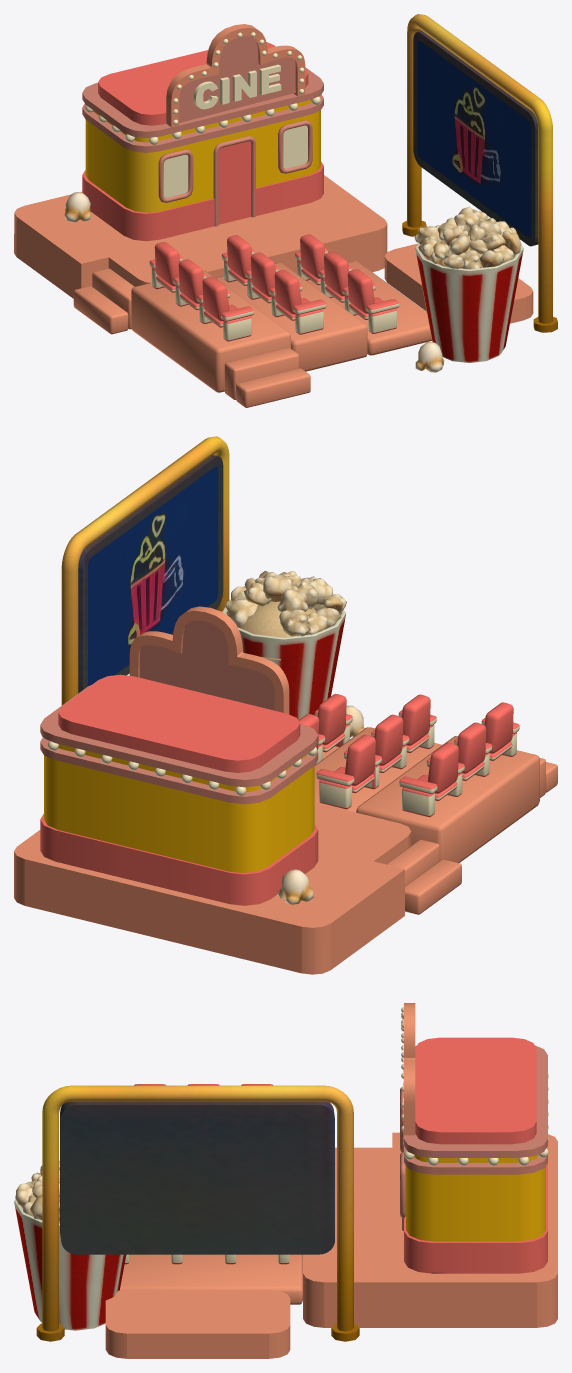
File: Cinema.fbx
3 views of the same model, one above another, from view 1: azimuth 30°, elevation 25°; view 2: azimuth 150°, elevation 25°; view 3: azimuth 270°, elevation 25° (orthographic). The views are drawn at different scales.
Visible parts, largest first — view 1: Cinema; view 2: Cinema; view 3: Cinema.
Part boxes in pixels (left/top/right/bottom): Cinema: left=14, top=14, right=557, bottom=407; Cinema: left=14, top=436, right=557, bottom=974; Cinema: left=14, top=1003, right=557, bottom=1358.
Size of the model in its own units: 27.04 by 17.95 by 33.21.
